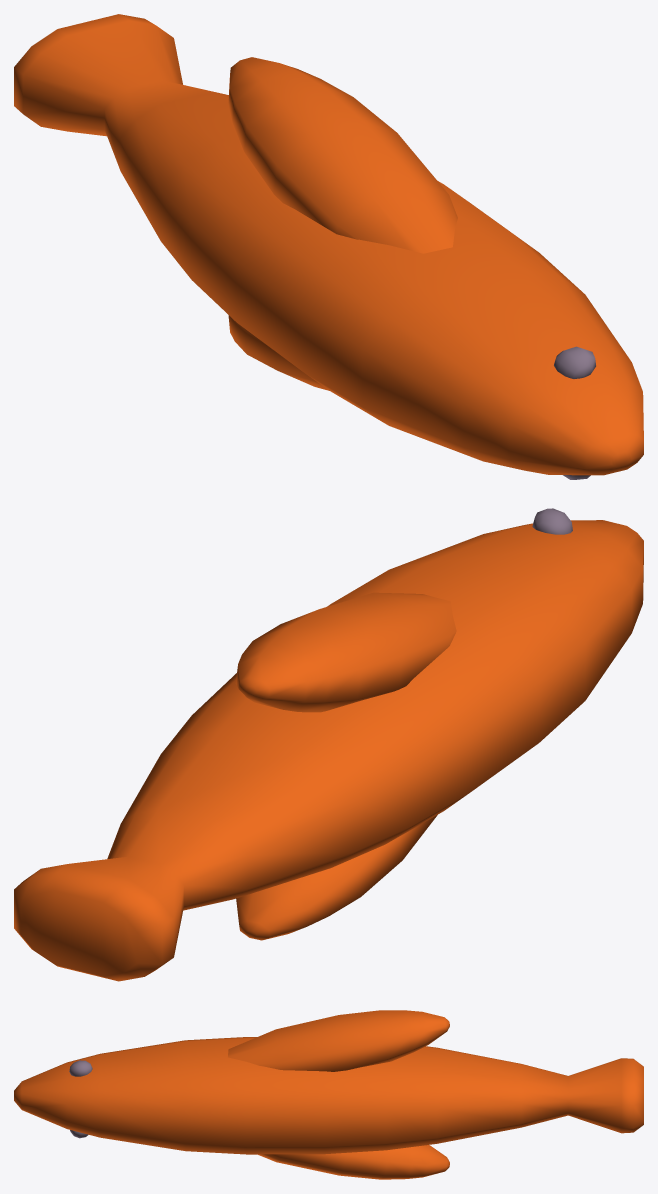
The model's file is Fish.fbx.
The picture shows the model from 3 angles, top to bottom: view 1: azimuth 30°, elevation 25°; view 2: azimuth 150°, elevation 25°; view 3: azimuth 270°, elevation 25°; orthographic projection. The views are drawn at different scales.
Visible parts, largest first — view 1: Body; view 2: Body; view 3: Body.
Part boxes in pixels (x1=…): Body: x1=14, y1=14, x2=643, y2=479; Body: x1=14, y1=508, x2=643, y2=981; Body: x1=14, y1=1010, x2=643, y2=1179.
Bounding box in the file's own units: 30.6 × 33.93 × 122.
